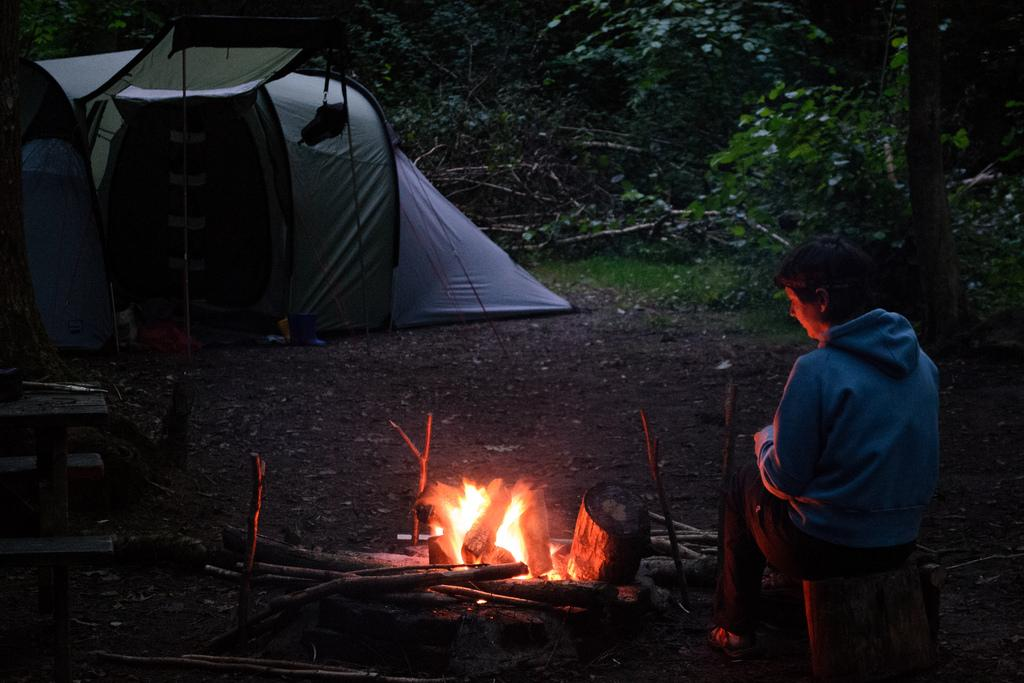fire: (432, 483, 533, 562)
